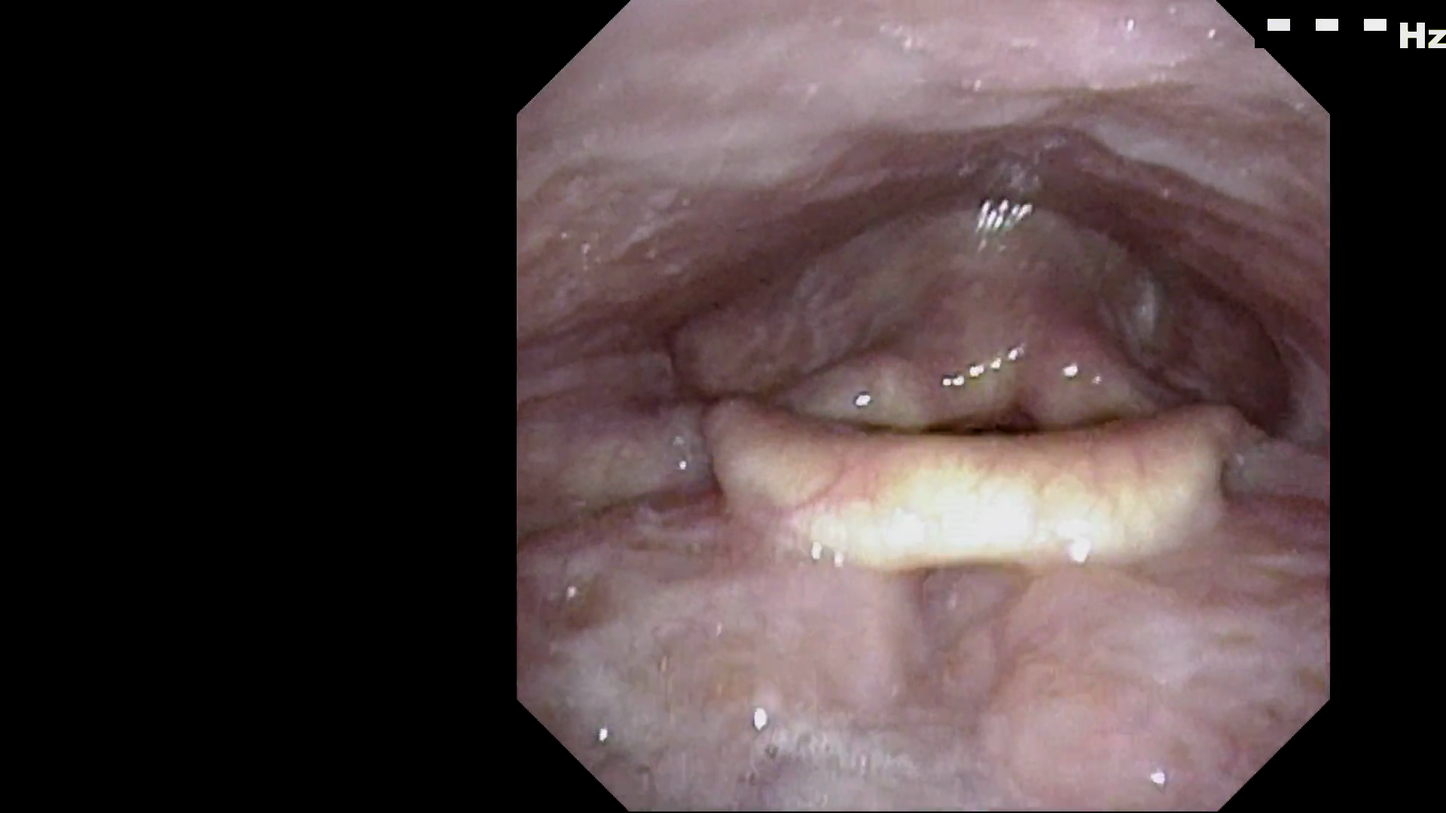epiglottis: (693, 350, 1266, 603)
trachea: (929, 365, 1047, 489)
